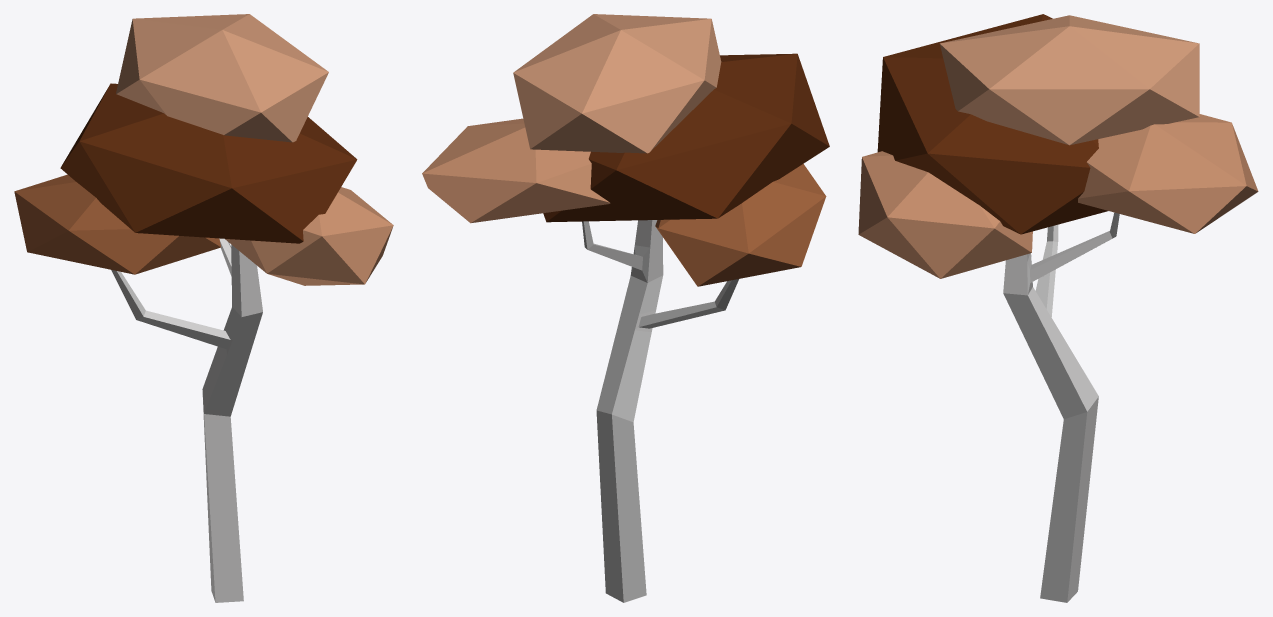
File: TreeAutumn10_Alt2.fbx
3 renders of one model, left to right at view 1: azimuth 30°, elevation 25°; view 2: azimuth 150°, elevation 25°; view 3: azimuth 270°, elevation 25°, orthographic.
Visible parts, largest first — view 1: TreeAutumn10_Alt2; view 2: TreeAutumn10_Alt2; view 3: TreeAutumn10_Alt2.
Boxes of the visible parts, box(x1,y1,x2,y2) form: TreeAutumn10_Alt2: box(14, 14, 393, 602); TreeAutumn10_Alt2: box(422, 14, 829, 602); TreeAutumn10_Alt2: box(858, 14, 1258, 602).
Bounding box in the file's own units: 1 × 1.7 × 1.09.
